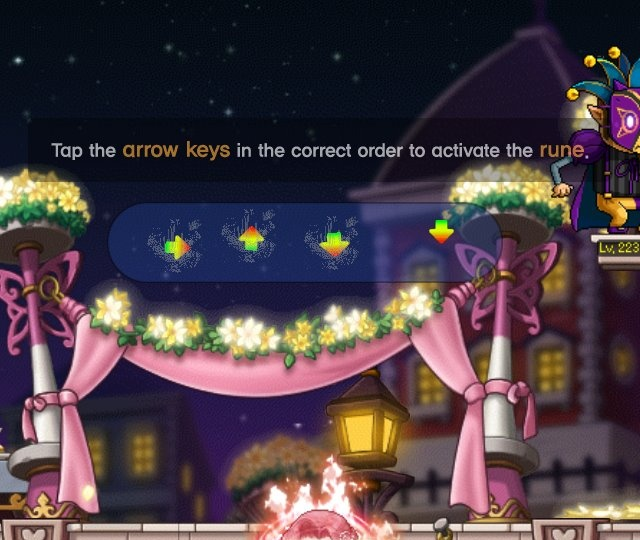rune_box: (101, 194, 513, 291)
